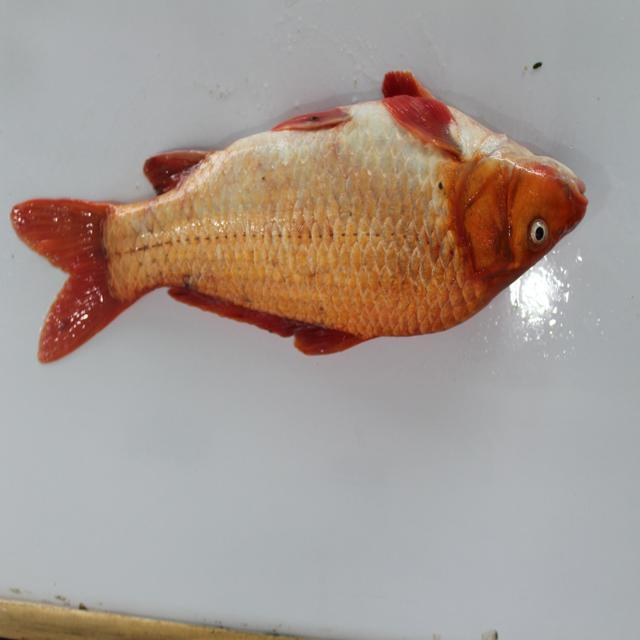Gold-Fish: (2, 63, 593, 415)
